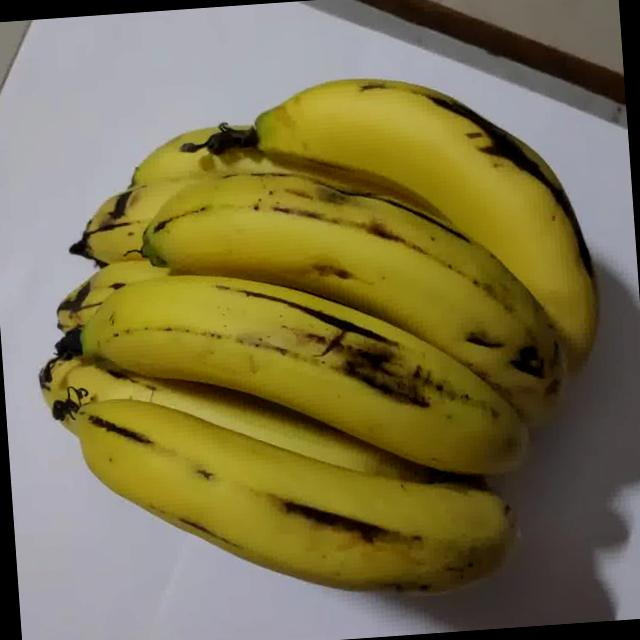banana_pacche: (4, 14, 631, 640)
